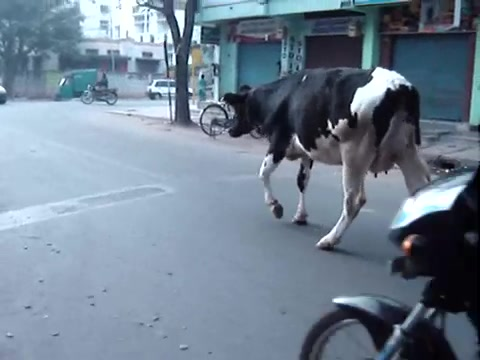cow: (223, 67, 433, 252)
